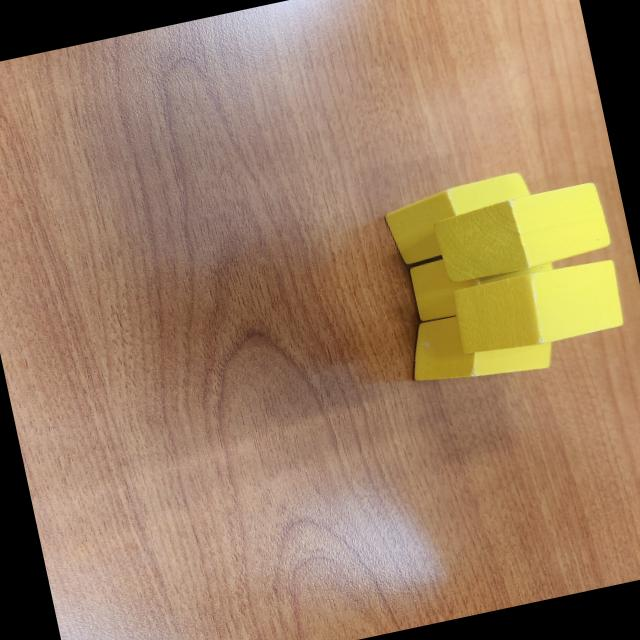yellow: (431, 179, 614, 286), (447, 254, 628, 362), (402, 294, 558, 396), (378, 170, 540, 268), (405, 236, 560, 325)
